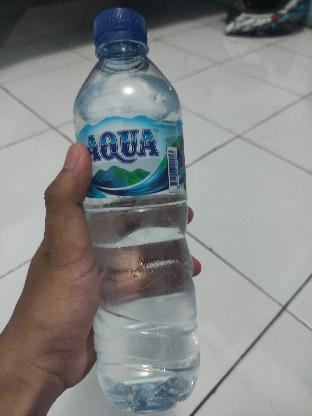Plastic Bottle: (73, 6, 203, 416)
